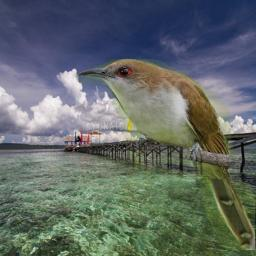Cuckoo: (76, 59, 255, 250)
